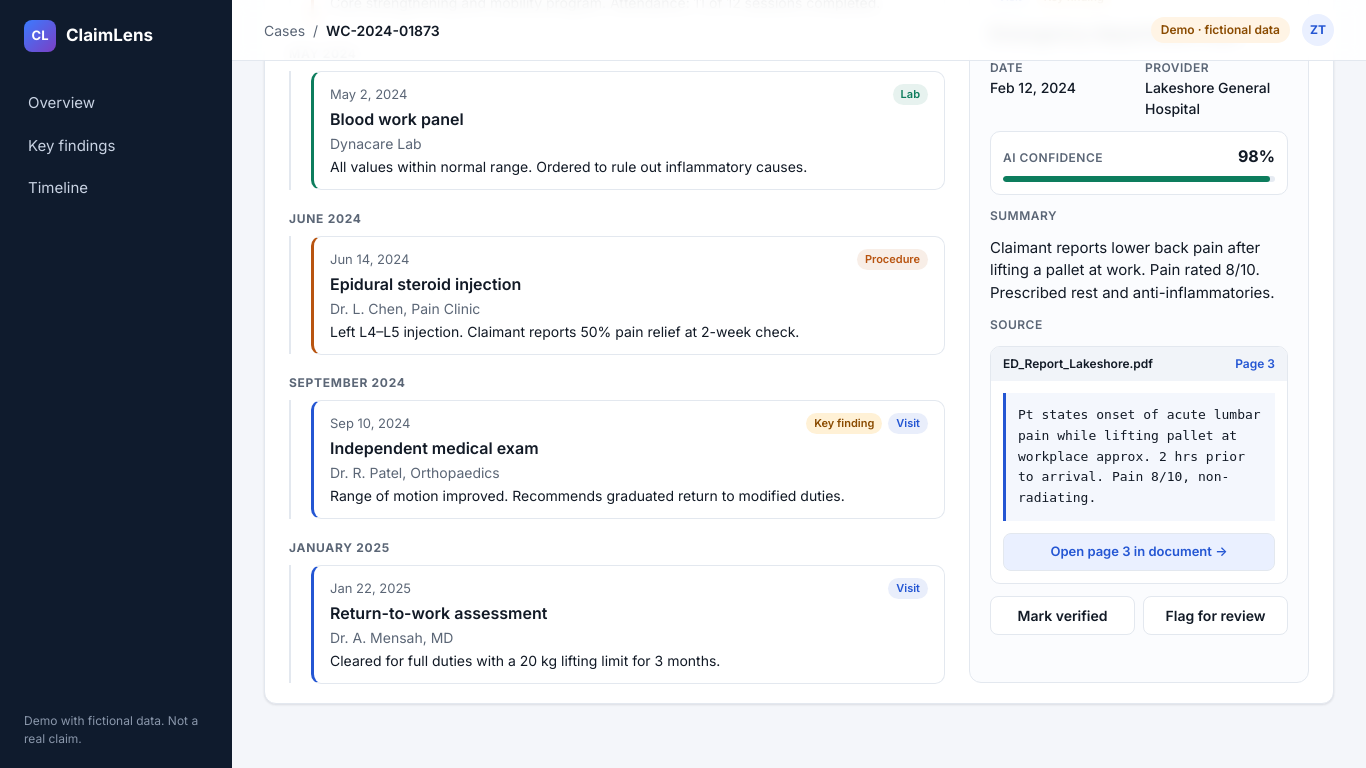
Test: App › shows the low-confidence warning for uncertain extractions
(page scrolled)
Click the button "Return-to-work assessment". click: coordinates (371, 587)
box: [311,565,945,683]
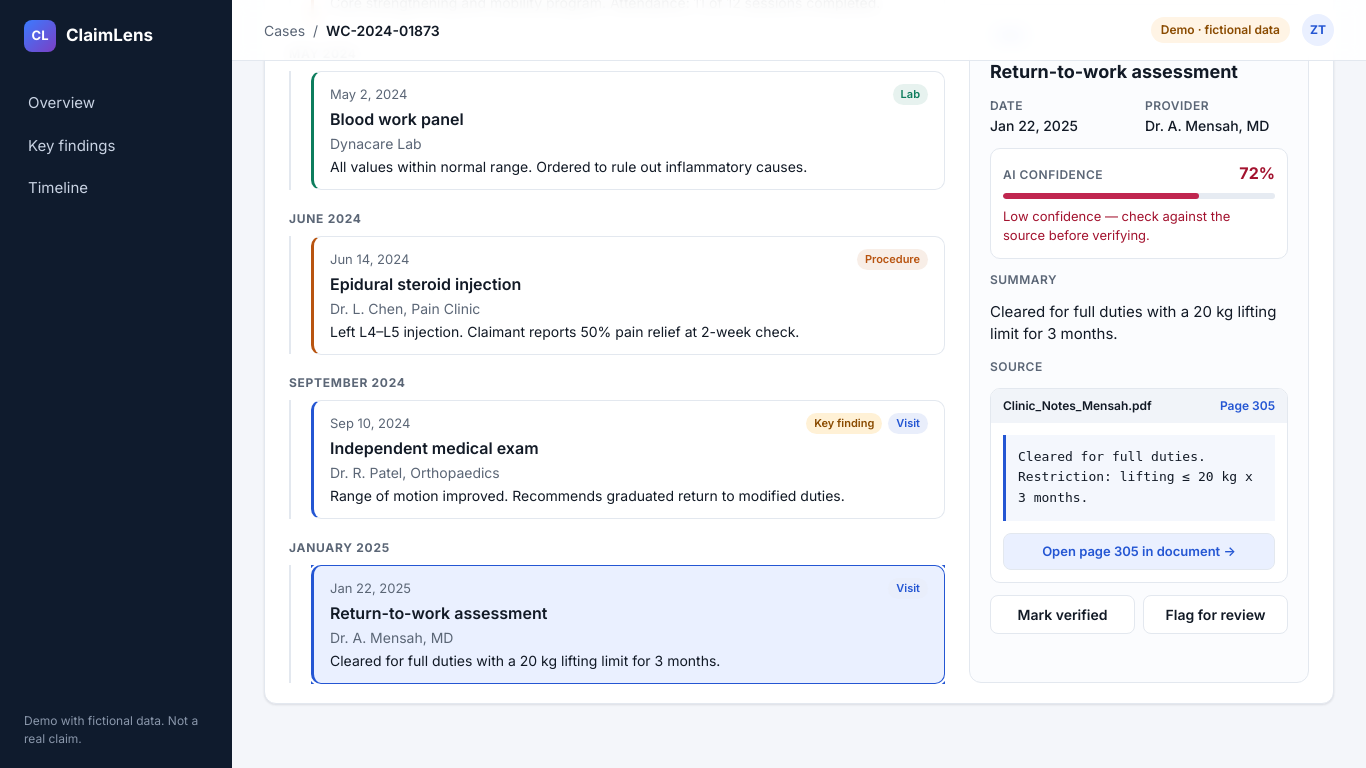
Check: the text "72%" is shown, box [1239,161,1275,185]
Check: the text "Low confidence — check against the source before verifying." is shown, box [1003,208,1230,243]
